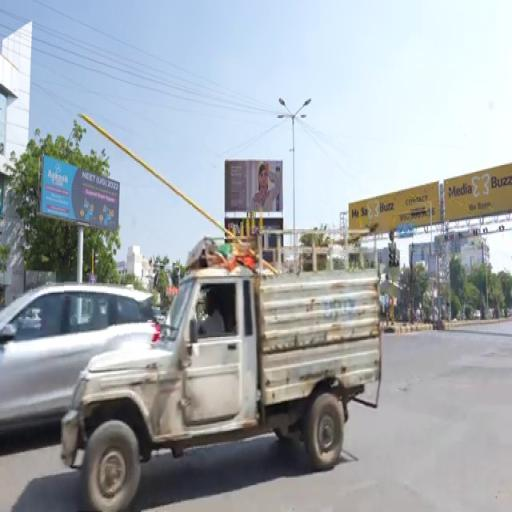Car: (0, 284, 159, 432)
